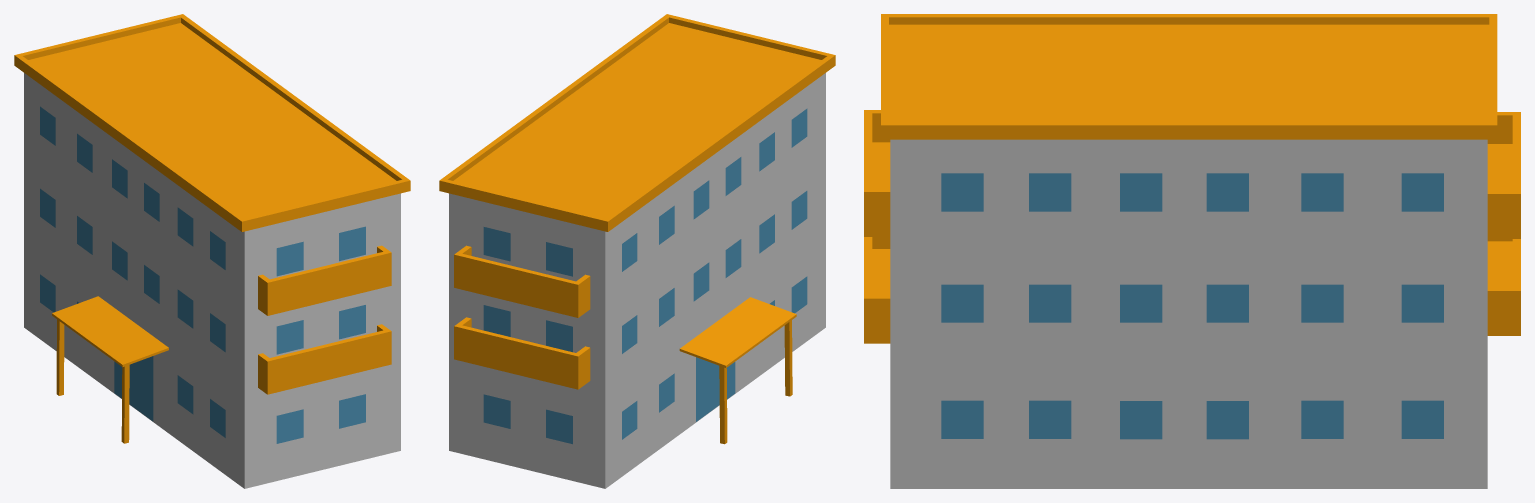
File: building_orange.glb
The picture shows the model from 3 angles, left to right: view 1: azimuth 30°, elevation 25°; view 2: azimuth 150°, elevation 25°; view 3: azimuth 270°, elevation 25°; orthographic projection. The views are drawn at different scales.
Parts seen in each view (by area): view 1: building; view 2: building; view 3: building.
Boxes of the visible parts, x1,y1,x2,y2 form: building: [14, 14, 410, 488]; building: [439, 14, 835, 488]; building: [864, 14, 1520, 488].
Size of the model in its own units: 7.87 by 9.79 by 15.82.
Materials: 1 (1 with a texture image).
